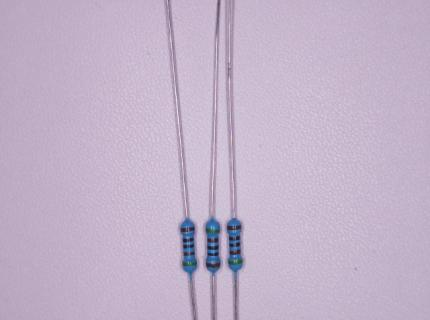Black band: (229, 235, 241, 241), (183, 237, 194, 243), (207, 245, 219, 250), (229, 242, 241, 247), (183, 244, 194, 249), (207, 252, 219, 256)
Brown band: (206, 262, 221, 268), (180, 227, 195, 232), (227, 225, 242, 230), (229, 249, 241, 255), (207, 238, 219, 243), (183, 252, 195, 256)
Green band: (228, 259, 243, 265), (205, 228, 220, 233), (182, 262, 197, 267)
